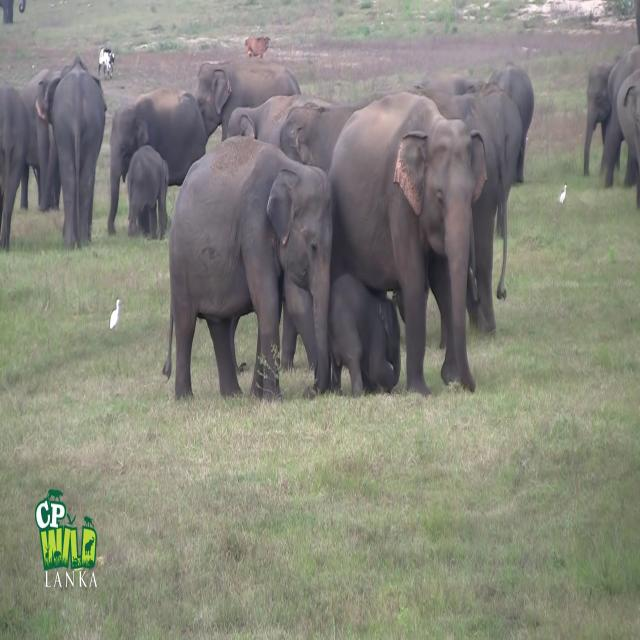Elephant: (327, 89, 487, 396), (162, 134, 333, 402), (402, 76, 523, 339), (108, 87, 206, 237), (42, 58, 107, 250), (194, 57, 302, 144), (327, 272, 401, 398), (0, 80, 30, 251), (126, 144, 169, 240)
